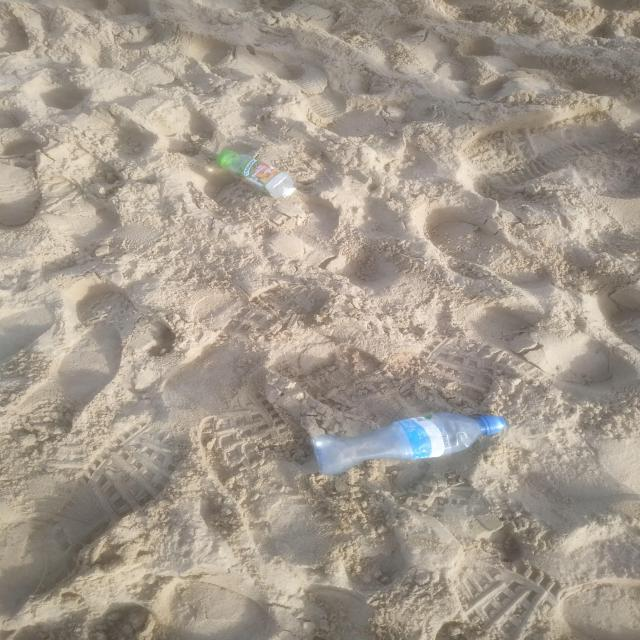litter: (216, 151, 509, 477)
